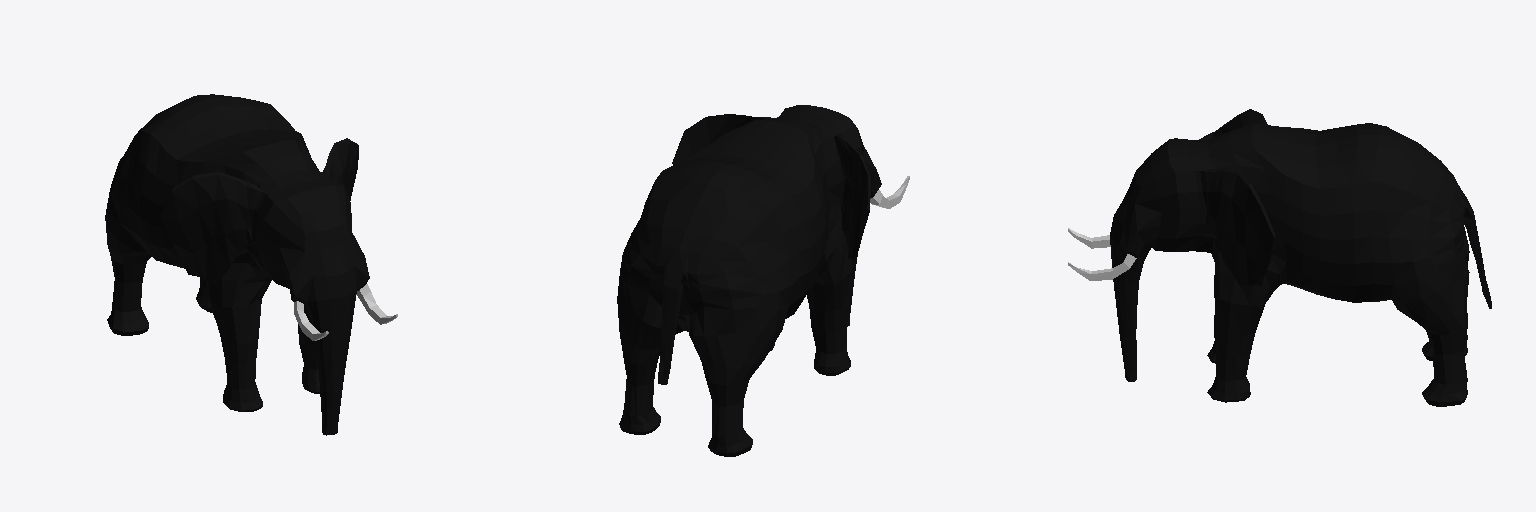
Rendered from elephant.obj.
3 views of the same model, side by side, from view 1: azimuth 30°, elevation 25°; view 2: azimuth 150°, elevation 25°; view 3: azimuth 270°, elevation 25° (orthographic).
Visible parts, largest first — view 1: elephant_Cube.006; view 2: elephant_Cube.006; view 3: elephant_Cube.006.
Part boxes in pixels (x1,y1,x2,y2): elephant_Cube.006: (105,94,397,435); elephant_Cube.006: (617,105,909,456); elephant_Cube.006: (1068,109,1491,406).
Size of the model in its own units: 2.21 by 2.61 by 4.1.